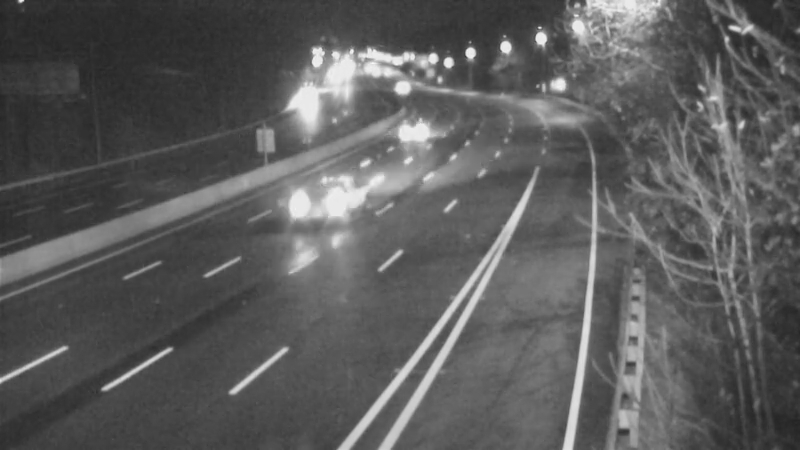vehicle: (269, 169, 349, 249), (378, 63, 428, 113), (391, 103, 441, 153)
